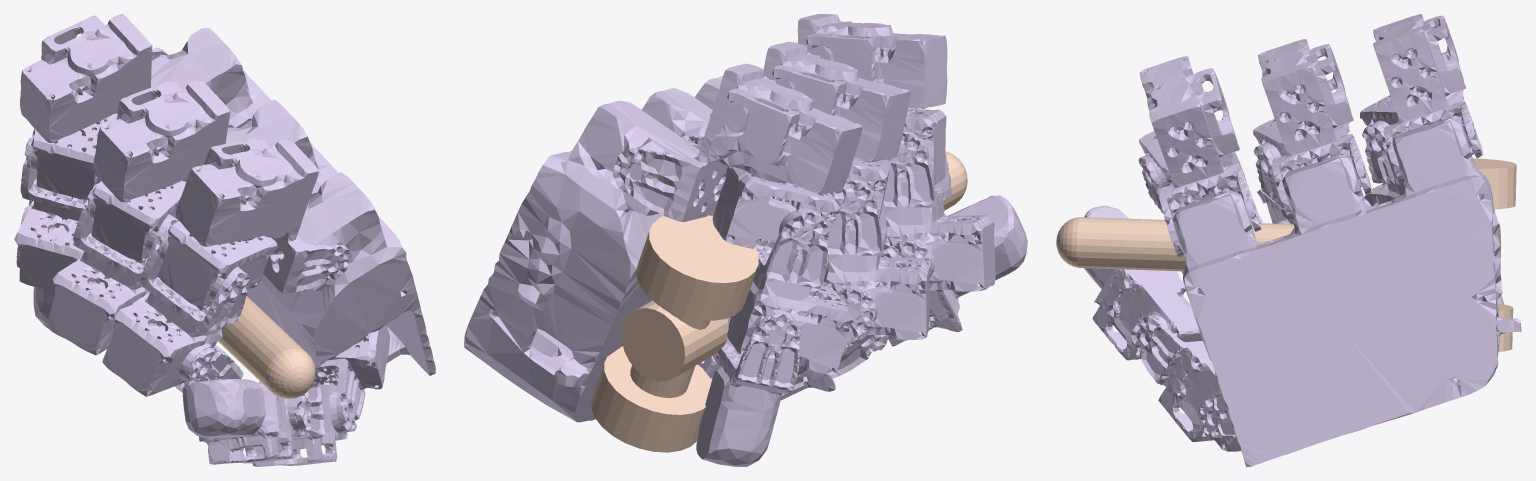
3 views of the same model, side by side, from view 1: azimuth 30°, elevation 25°; view 2: azimuth 150°, elevation 25°; view 3: azimuth 270°, elevation 25° (orthographic). The views are drawn at different scales.
Visible parts, largest first — view 1: LEAP_hand, world; view 2: LEAP_hand, world; view 3: LEAP_hand, world.
Boxes of the visible parts, box(x1,y1,x2,y2) form: LEAP_hand: box(14, 14, 435, 466); world: box(218, 296, 315, 398); LEAP_hand: box(464, 14, 1027, 466); world: box(591, 151, 967, 452); LEAP_hand: box(1084, 14, 1521, 466); world: box(1056, 158, 1516, 351).
Size of the model in its own units: 0.1507 by 0.1612 by 0.1809.
